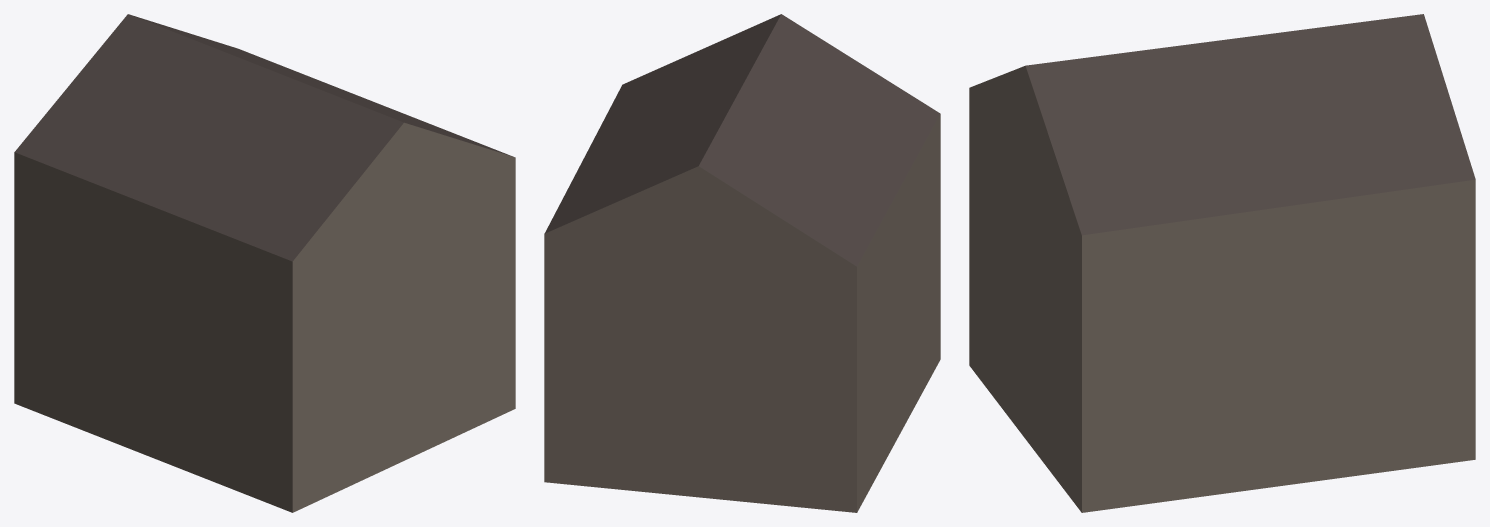
3 views of the same model, side by side, from view 1: azimuth 30°, elevation 25°; view 2: azimuth 150°, elevation 25°; view 3: azimuth 270°, elevation 25° (orthographic). The views are drawn at different scales.
Visible parts, largest first — view 1: HP-w1198867492; view 2: HP-w1198867492; view 3: HP-w1198867492.
Part boxes in pixels (x1,y1,x2,y2): HP-w1198867492: (14,14,515,512); HP-w1198867492: (544,14,940,512); HP-w1198867492: (969,14,1475,512).
Bounding box in the file's own units: 9.25 × 8.07 × 9.92.
